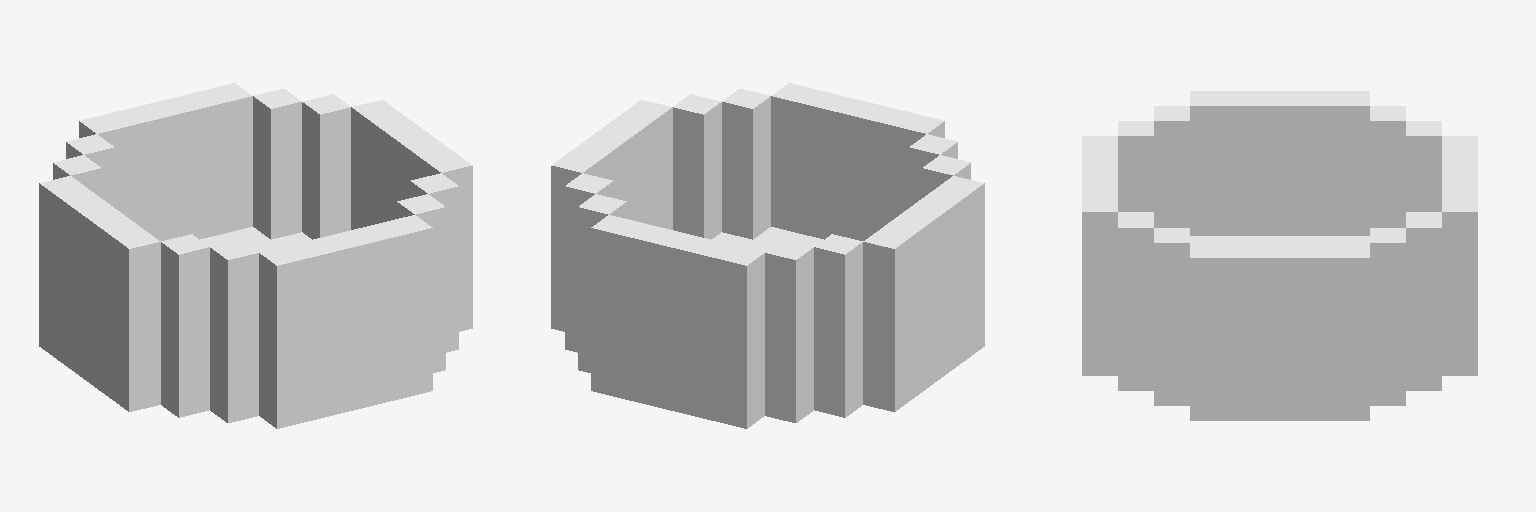
The model's file is bowl.obj.
3 renders of one model, left to right at view 1: azimuth 30°, elevation 25°; view 2: azimuth 150°, elevation 25°; view 3: azimuth 270°, elevation 25°, orthographic.
Parts seen in each view (by area): view 1: bowl; view 2: bowl; view 3: bowl.
Part boxes in pixels (left/top/right/bottom): bowl: left=39, top=83, right=472, bottom=428; bowl: left=551, top=83, right=984, bottom=428; bowl: left=1082, top=91, right=1477, bottom=420.
Size of the model in its own units: 11 by 5 by 11.